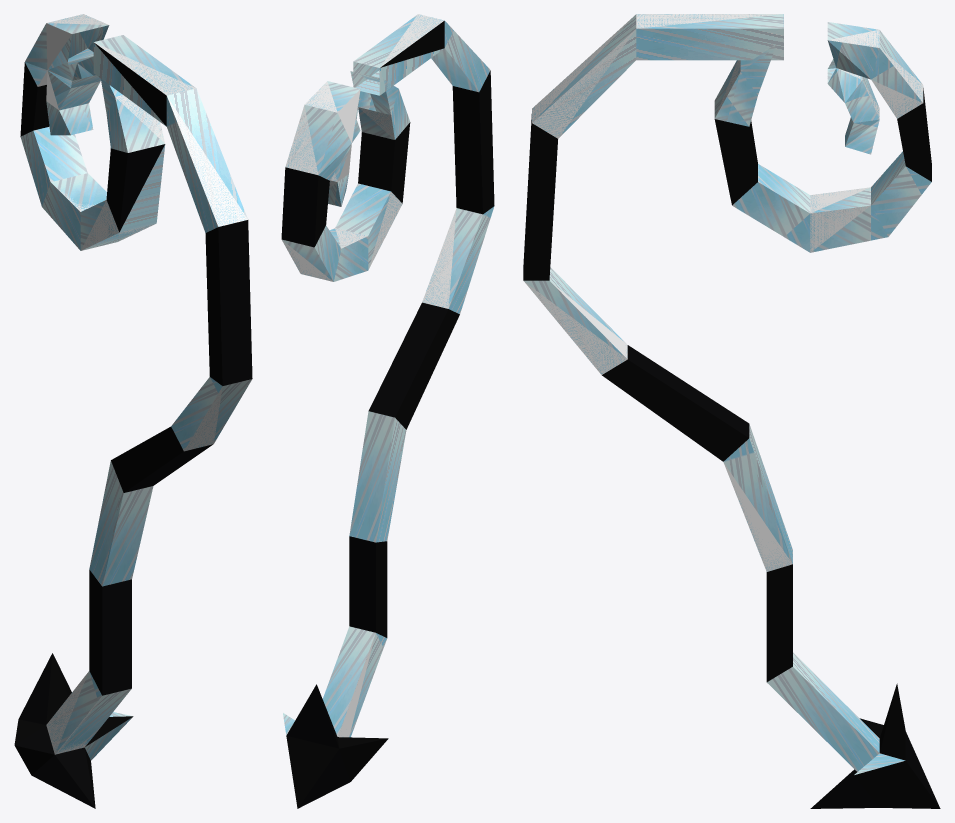
3 renders of one model, left to right at view 1: azimuth 30°, elevation 25°; view 2: azimuth 150°, elevation 25°; view 3: azimuth 270°, elevation 25°, orthographic. The views are drawn at different scales.
Size of the model in its own units: 16 by 100 by 48.
2 materials, 2 textured.
